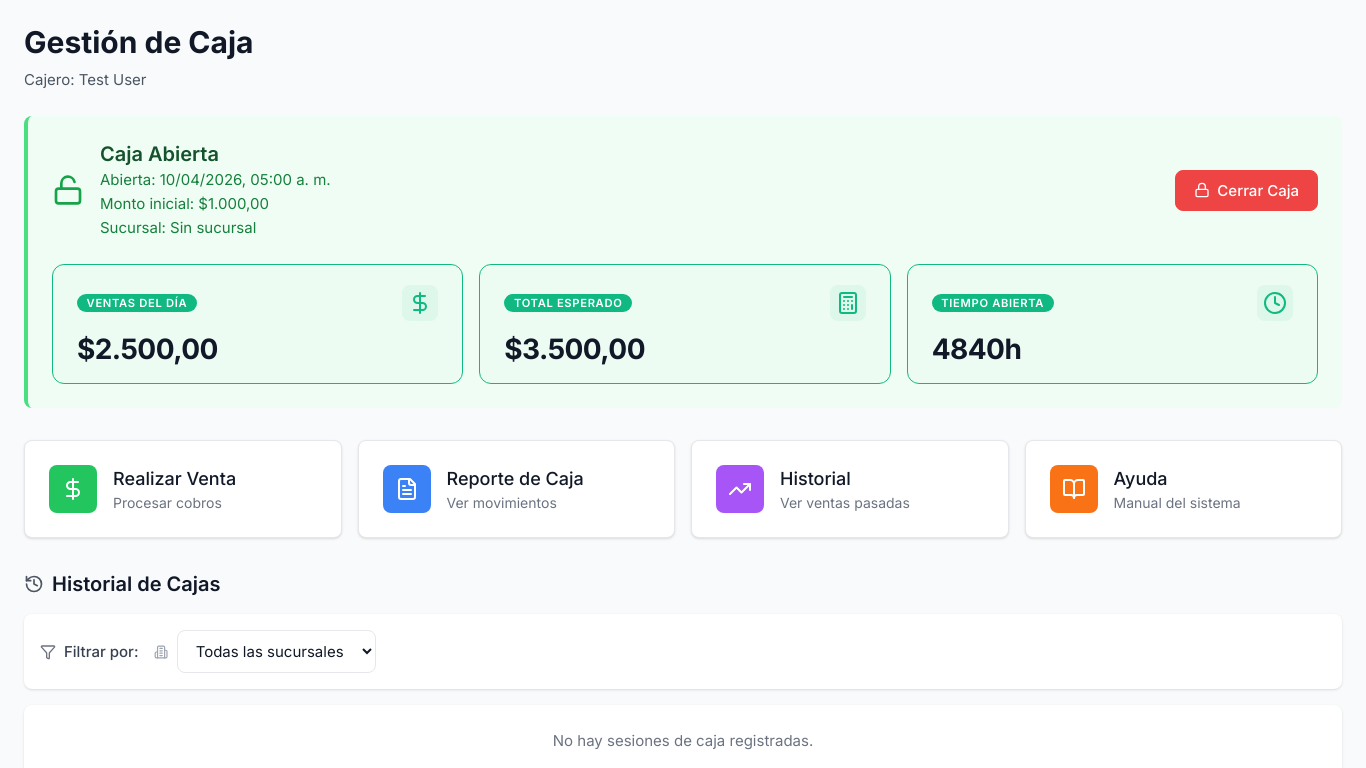
it: CashManager › abre el modal "Cerrar Caja" al hacer click en el botón
Expected: the heading "Caja Abierta" is shown, [100,142,219,166]
Click the button "Cerrar Caja" at point(1247, 190), box [1175,170,1318,210]
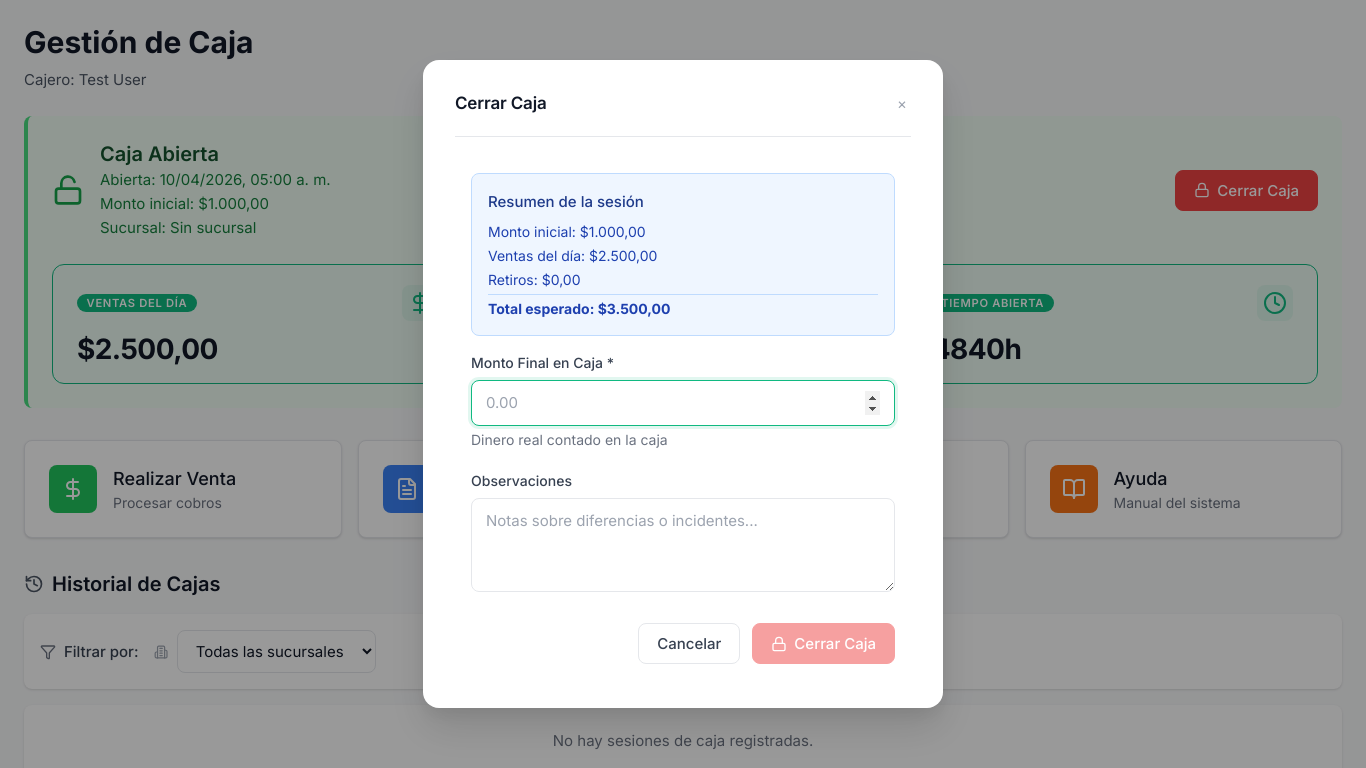
Expected: the text "Monto Final en Caja *" is shown, [471,354,614,371]
